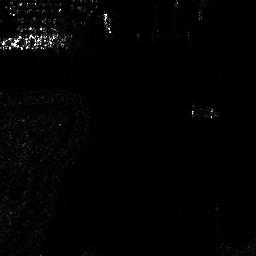ship: (1, 32, 72, 51)
